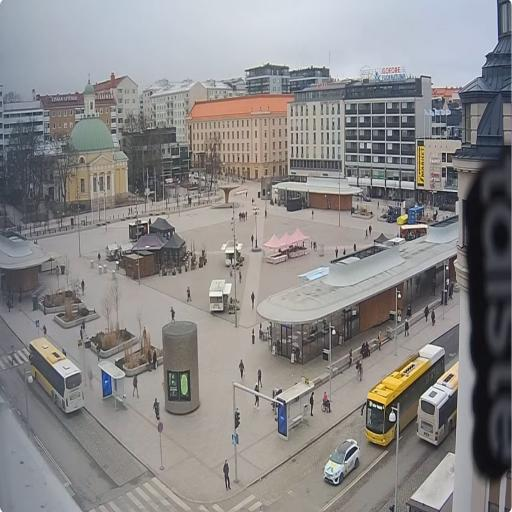bus: (359, 341, 447, 450), (26, 333, 87, 422), (414, 356, 458, 446)
car: (315, 439, 364, 489), (361, 193, 373, 203), (209, 176, 220, 184), (201, 172, 207, 182), (193, 172, 200, 180)
